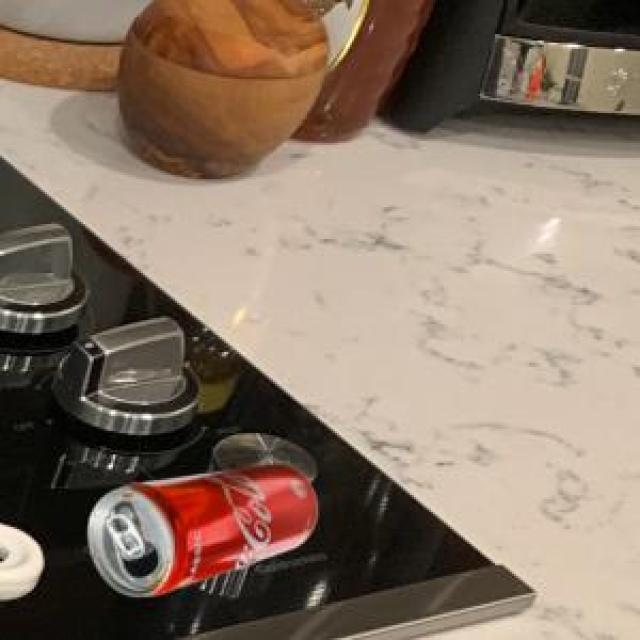Can: (86, 462, 315, 594)
